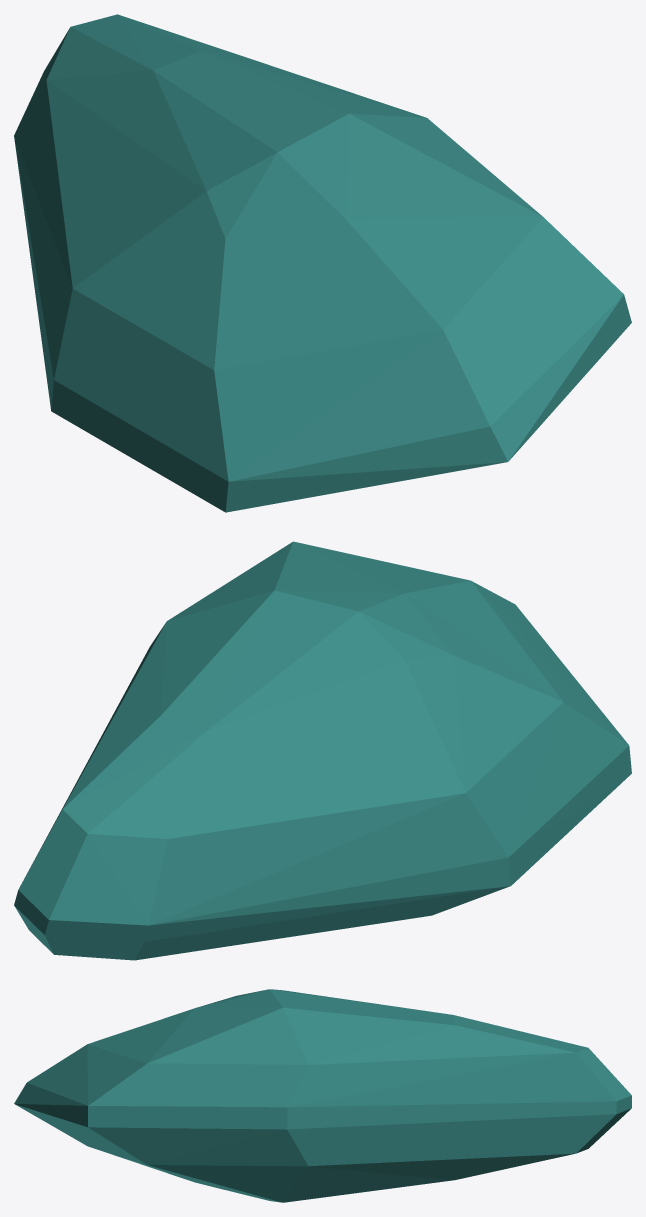
Rendered from SM_Sea_Shell_Mussel_Blue_Closed_A.fbx.
The picture shows the model from 3 angles, top to bottom: view 1: azimuth 30°, elevation 25°; view 2: azimuth 150°, elevation 25°; view 3: azimuth 270°, elevation 25°; orthographic projection. The views are drawn at different scales.
Visible parts, largest first — view 1: sea-shell-mussel-blue-closed-a; view 2: sea-shell-mussel-blue-closed-a; view 3: sea-shell-mussel-blue-closed-a.
Boxes of the visible parts, left/top/right/bottom form: sea-shell-mussel-blue-closed-a: left=14, top=14, right=631, bottom=512; sea-shell-mussel-blue-closed-a: left=14, top=541, right=631, bottom=960; sea-shell-mussel-blue-closed-a: left=14, top=989, right=631, bottom=1202.
Bounding box in the file's own units: 0.0756 × 0.0538 × 0.1522.
